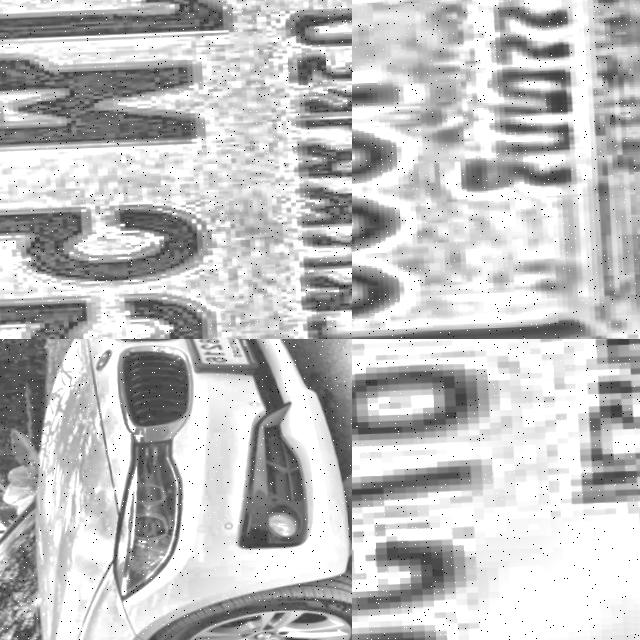license-plate: (0, 0, 352, 339), (352, 0, 640, 339), (352, 339, 640, 640), (170, 339, 261, 377)
